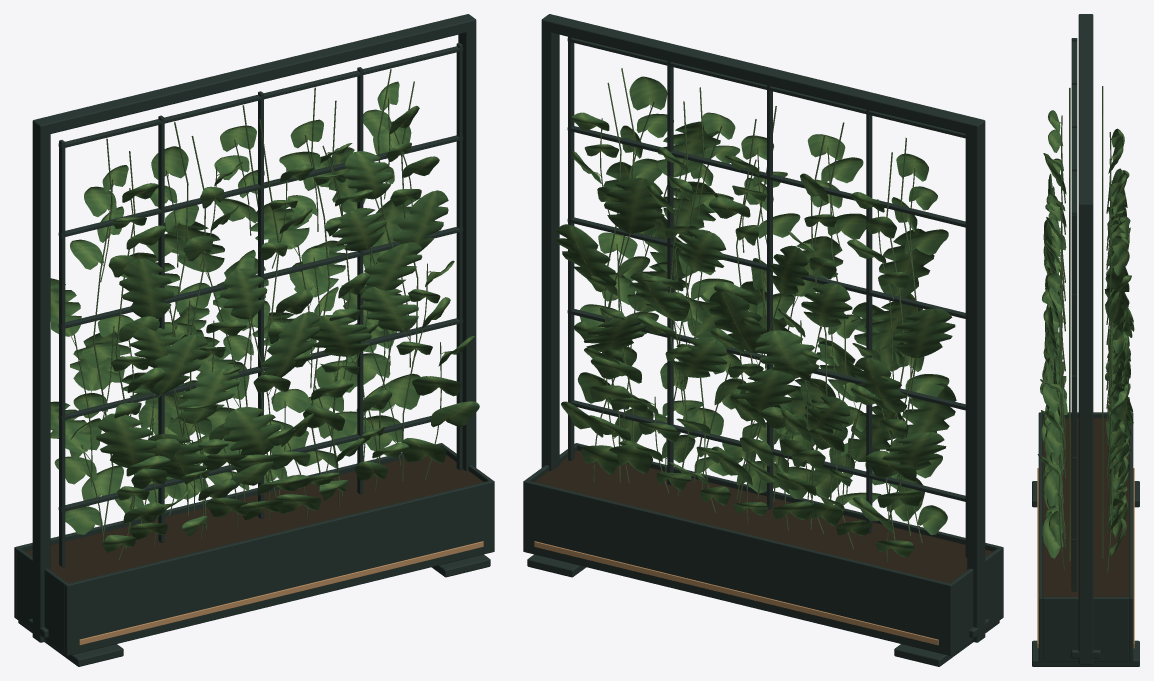
File: botanicalDivider-3.glb
3 renders of one model, left to right at view 1: azimuth 30°, elevation 25°; view 2: azimuth 150°, elevation 25°; view 3: azimuth 270°, elevation 25°, orthographic. The views are drawn at different scales.
Visible parts, largest first — view 1: Botanical_living_foliage, Botanical_powdercoat, Botanical_recessed_soil, Botanical_connected_stems, Botanical_frame_finish, Botanical_leaf_midribs; view 2: Botanical_living_foliage, Botanical_powdercoat, Botanical_recessed_soil, Botanical_connected_stems, Botanical_frame_finish, Botanical_leaf_midribs; view 3: Botanical_powdercoat, Botanical_living_foliage, Botanical_recessed_soil, Botanical_connected_stems, Botanical_frame_finish, Botanical_leaf_midribs.
Part boxes in pixels (bbox=[...]): Botanical_living_foliage: bbox=[50, 81, 479, 552]; Botanical_powdercoat: bbox=[14, 14, 494, 666]; Botanical_recessed_soil: bbox=[25, 454, 483, 583]; Botanical_connected_stems: bbox=[71, 69, 445, 559]; Botanical_frame_finish: bbox=[79, 541, 483, 645]; Botanical_leaf_midribs: bbox=[50, 88, 470, 543]; Botanical_living_foliage: bbox=[556, 76, 956, 557]; Botanical_powdercoat: bbox=[523, 14, 1003, 666]; Botanical_recessed_soil: bbox=[534, 450, 992, 583]; Botanical_connected_stems: bbox=[593, 68, 922, 562]; Botanical_frame_finish: bbox=[534, 541, 938, 645]; Botanical_leaf_midribs: bbox=[568, 79, 941, 547]; Botanical_powdercoat: bbox=[1032, 14, 1139, 666]; Botanical_living_foliage: bbox=[1037, 110, 1134, 558]; Botanical_recessed_soil: bbox=[1042, 418, 1129, 597]; Botanical_connected_stems: bbox=[1057, 86, 1114, 572]; Botanical_frame_finish: bbox=[1037, 468, 1134, 648]; Botanical_leaf_midribs: bbox=[1041, 119, 1129, 546].
Bounding box in the file's own units: 2 × 2.3 × 0.4798.
